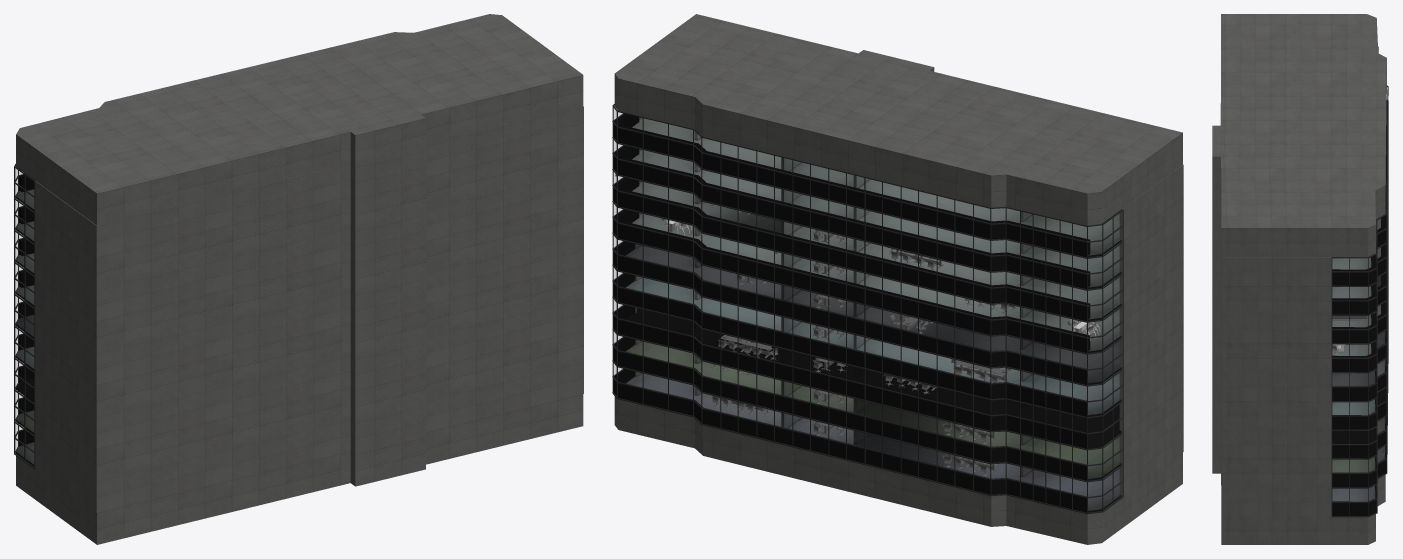
The model's file is capstone2_lowoffice-transformed.glb.
3 renders of one model, left to right at view 1: azimuth 30°, elevation 25°; view 2: azimuth 150°, elevation 25°; view 3: azimuth 270°, elevation 25°, orthographic. The views are drawn at different scales.
Parts seen in each view (by area): view 1: BLD_OFFICE_010_w2_0, BLD_OFFICE_00_walls_exterior_0, BLD_OFFICE_05_walls [BLD_OFFICE_05]_0, BLD_OFFICE_04_glass_0; view 2: BLD_OFFICE_00_walls_exterior_0, BLD_OFFICE_010_w2_0, BLD_OFFICE_05_walls [BLD_OFFICE_05]_0; view 3: BLD_OFFICE_010_w2_0, BLD_OFFICE_00_walls_exterior_0, BLD_OFFICE_05_walls [BLD_OFFICE_05]_0.
Boxes of the visible parts, x1=… form: BLD_OFFICE_010_w2_0: x1=16, y1=14, x2=583, y2=544; BLD_OFFICE_00_walls_exterior_0: x1=14, y1=163, x2=35, y2=468; BLD_OFFICE_05_walls [BLD_OFFICE_05]_0: x1=16, y1=166, x2=35, y2=466; BLD_OFFICE_04_glass_0: x1=15, y1=169, x2=23, y2=451; BLD_OFFICE_00_walls_exterior_0: x1=612, y1=104, x2=1123, y2=514; BLD_OFFICE_010_w2_0: x1=614, y1=14, x2=1183, y2=544; BLD_OFFICE_05_walls [BLD_OFFICE_05]_0: x1=615, y1=106, x2=1121, y2=512; BLD_OFFICE_010_w2_0: x1=1212, y1=14, x2=1386, y2=544; BLD_OFFICE_00_walls_exterior_0: x1=1331, y1=46, x2=1388, y2=517; BLD_OFFICE_05_walls [BLD_OFFICE_05]_0: x1=1332, y1=217, x2=1385, y2=501.
Size of the model in its own units: 285 by 195 by 98.47.
7 materials, 7 textured.
